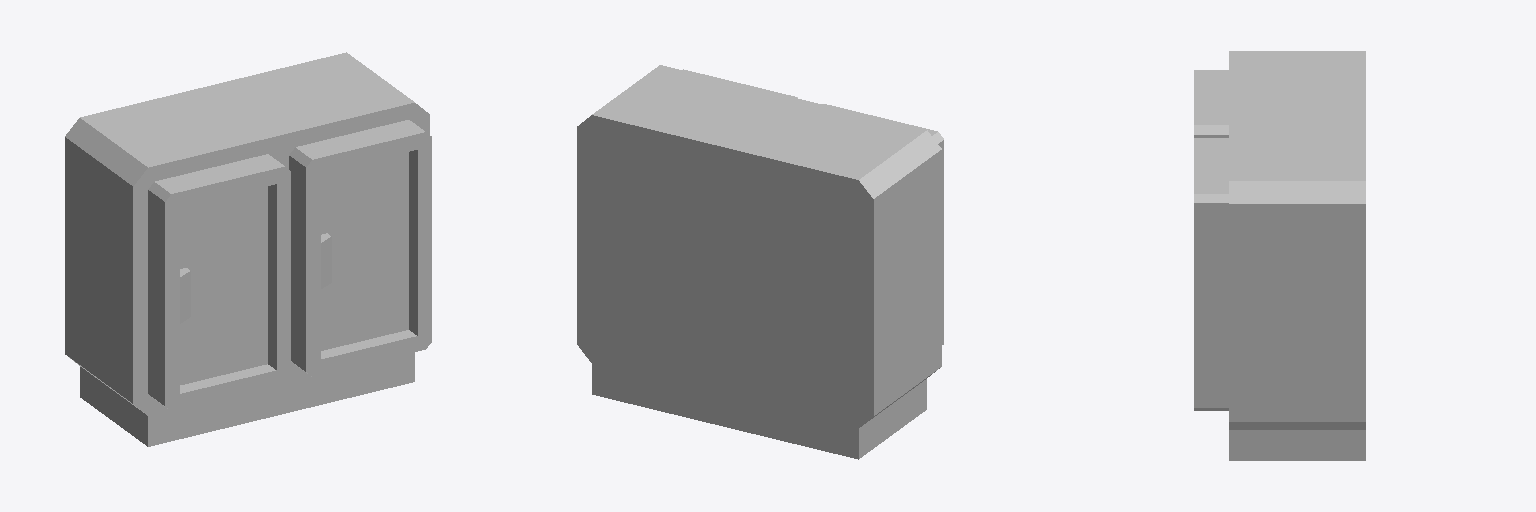
File: freezers-standing.obj
The picture shows the model from 3 angles: view 1: azimuth 30°, elevation 25°; view 2: azimuth 150°, elevation 25°; view 3: azimuth 270°, elevation 25°; orthographic projection.
Parts seen in each view (by area): view 1: freezers-standing; view 2: freezers-standing; view 3: freezers-standing.
Boxes of the visible parts, <box> form: freezers-standing: <box>65,52,431,446</box>; freezers-standing: <box>577,65,943,459</box>; freezers-standing: <box>1194,51,1365,460</box>.
Bounding box in the file's own units: 1 × 0.9 × 0.5.